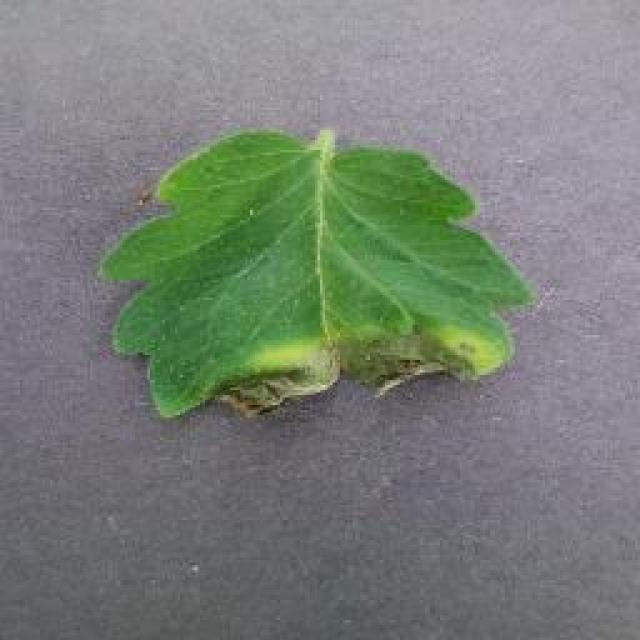Tomato Late Blight: (195, 325, 463, 422)
